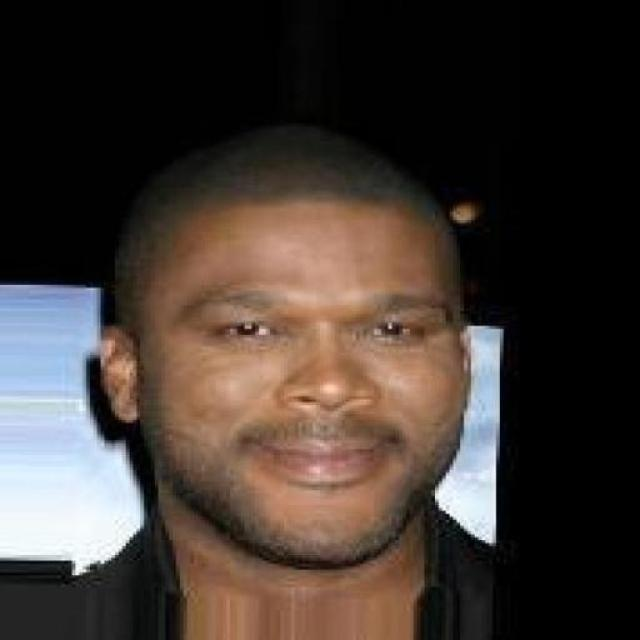bareface: (120, 169, 478, 579)
